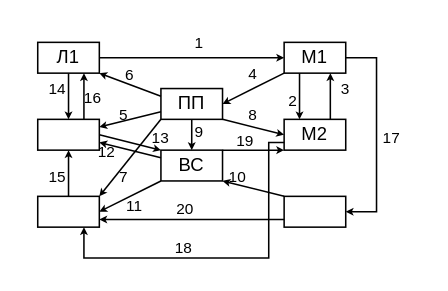
Image size: 448x291. Some labels were removed from this diagram. The shapes that lost their labels are listed below. From the top down, each one's centre as x and y in pixels, then its label:
At (67,134): "Л2".
At (67,211): "Л3".
At (314,211): "М3".
